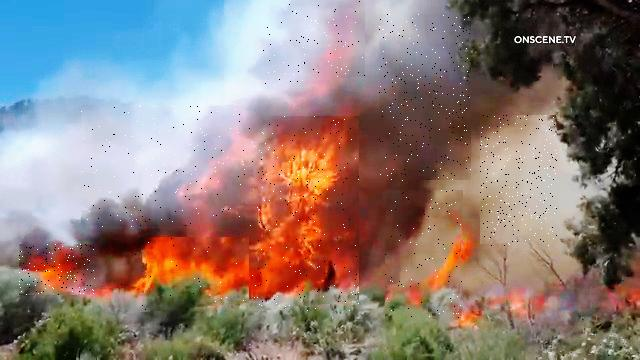fire: (249, 116, 359, 312), (115, 237, 249, 314), (20, 244, 96, 295)
smoke: (81, 106, 245, 228), (379, 15, 471, 183), (480, 116, 557, 248), (385, 191, 463, 319), (262, 0, 365, 85)
